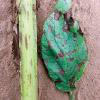Potato leaf early blight: (41, 0, 90, 94)
